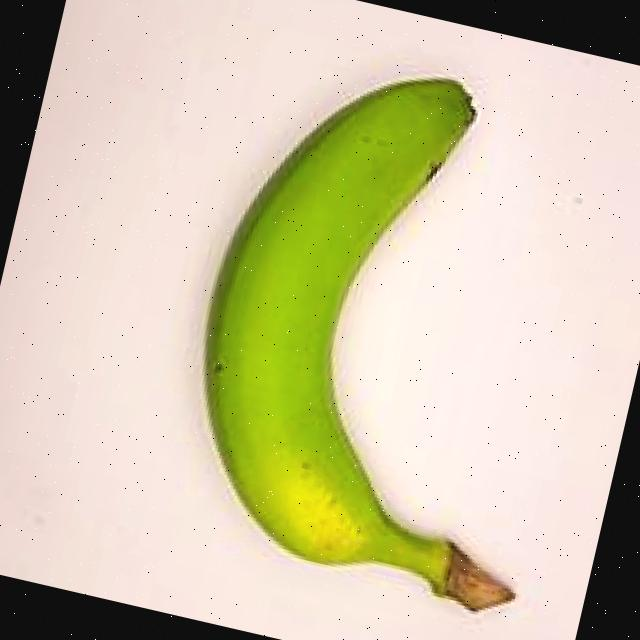Unripe: (109, 6, 640, 631)
